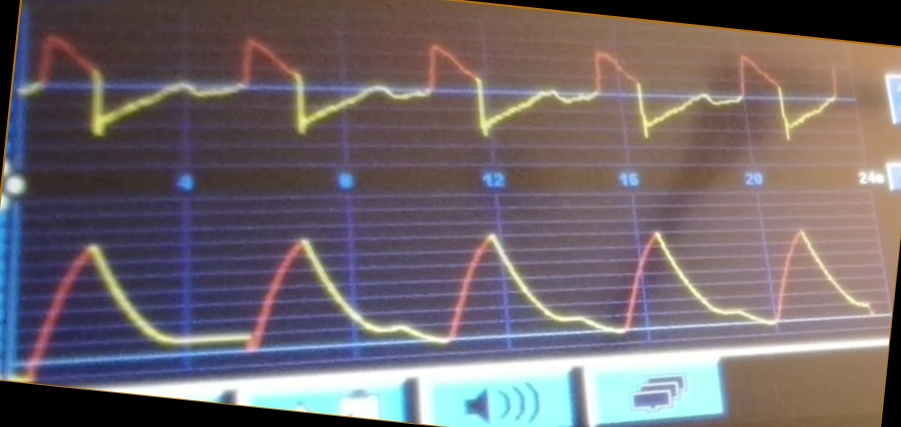Ineffective_effort Flow: (30, 31, 839, 154)
Ineffective_effort Volume: (19, 219, 879, 365)
